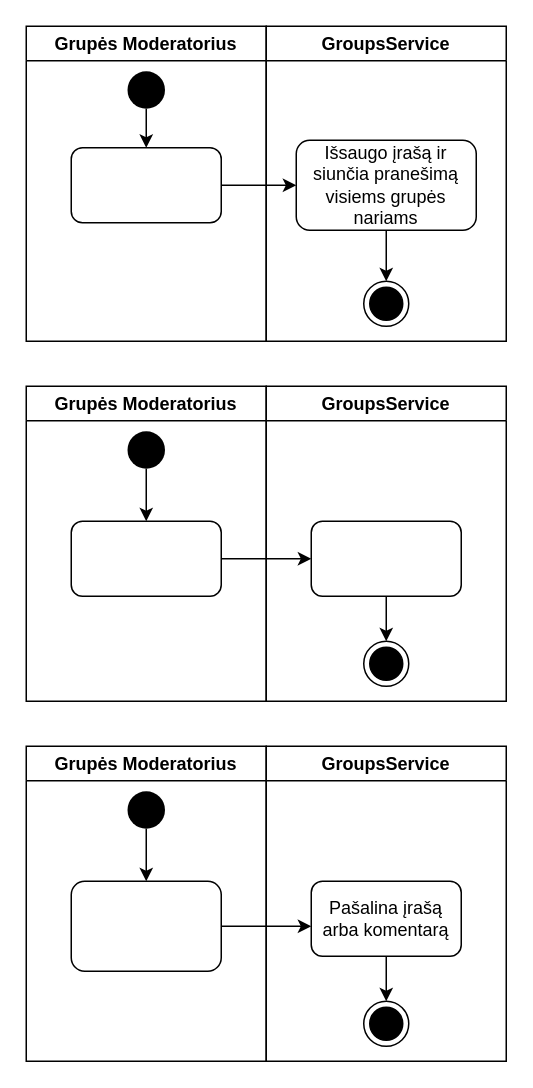
This 533x1088 diagram has some shape labels left out. Here are the shapes that lost their labels. From the top down, the centre of each, then its label:
the point at 145,184: Sukuria naują įrašą grupėje
the point at 145,558: Pasirenka narį šalinimui ir šalinimo priežastį
the point at 385,558: Pašalina grupės narį ir išsiunčia jam pranešimą
the point at 145,925: Pasirenka įrašą arba komentarą, kurį noriti ištrinti
